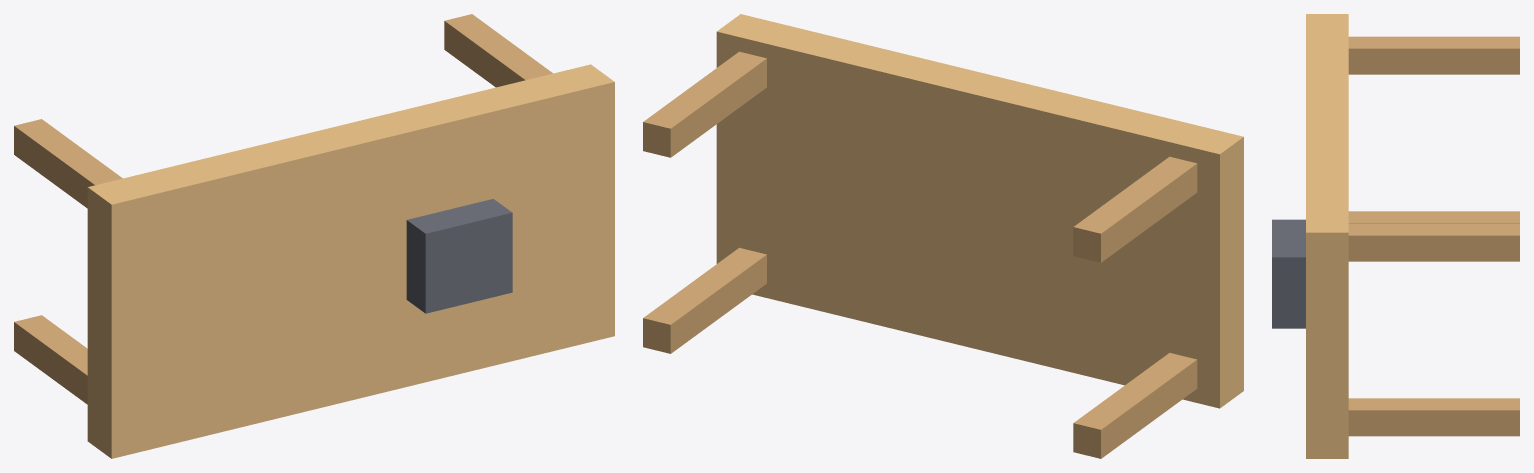
Rendered from 16_coffee_table.glb.
3 views of the same model, side by side, from view 1: azimuth 30°, elevation 25°; view 2: azimuth 150°, elevation 25°; view 3: azimuth 270°, elevation 25° (orthographic). The views are drawn at different scales.
Parts seen in each view (by area): view 1: part_1, part_6, part_3, part_5, part_2; view 2: part_1, part_2, part_3, part_4, part_5; view 3: part_1, part_3, part_4, part_5, part_6, part_2.
Part boxes in pixels (x1=…): part_1: x1=87, y1=64, x2=614, y2=458; part_6: x1=406, y1=199, x2=512, y2=313; part_3: x1=14, y1=119, x2=122, y2=208; part_5: x1=444, y1=14, x2=552, y2=87; part_2: x1=14, y1=315, x2=87, y2=404; part_1: x1=716, y1=14, x2=1243, y2=408; part_2: x1=1073, y1=352, x2=1197, y2=458; part_3: x1=1073, y1=156, x2=1197, y2=262; part_4: x1=643, y1=247, x2=766, y2=353; part_5: x1=643, y1=51, x2=766, y2=157; part_1: x1=1306, y1=14, x2=1348, y2=458; part_3: x1=1348, y1=36, x2=1519, y2=74; part_4: x1=1348, y1=398, x2=1519, y2=436; part_5: x1=1348, y1=223, x2=1519, y2=261; part_6: x1=1272, y1=219, x2=1305, y2=328; part_2: x1=1348, y1=211, x2=1519, y2=223.
Bounding box in the file's own units: 1.45 × 0.7 × 0.695.
